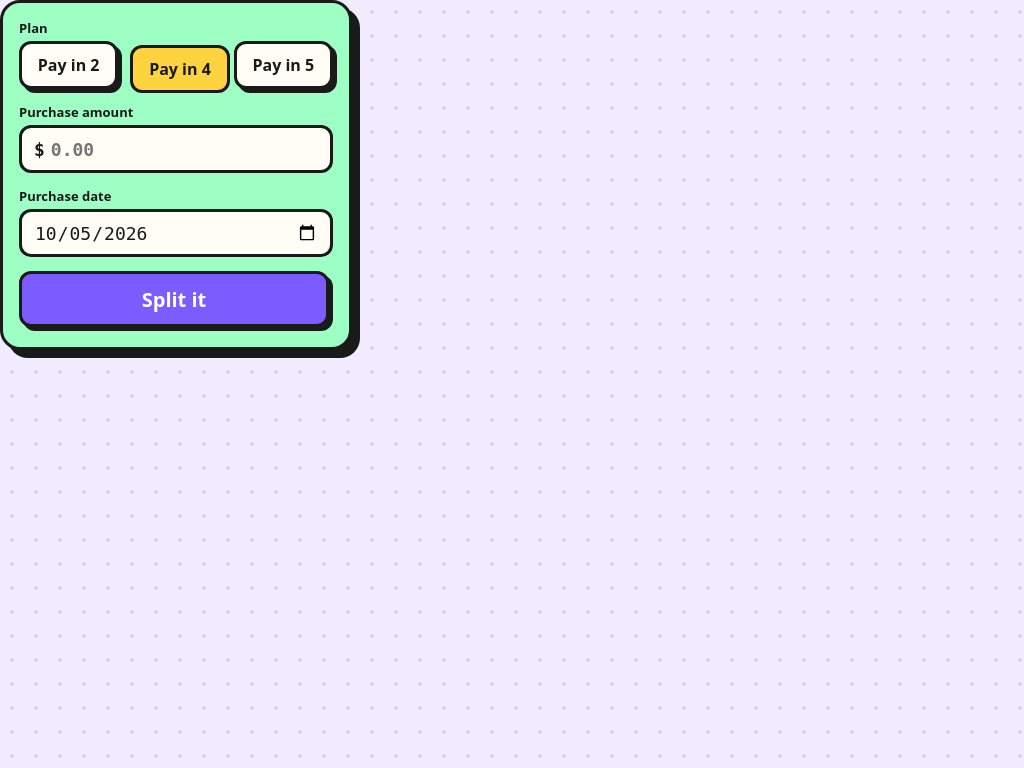
Test: PaymentPlanner › shows errors from the backend
This screenshot has width=1024, height=768.
In the field labelled "Purchase amount": coordinates (187, 149) x1=45 y1=138 x2=330 y2=160, type "0.03"
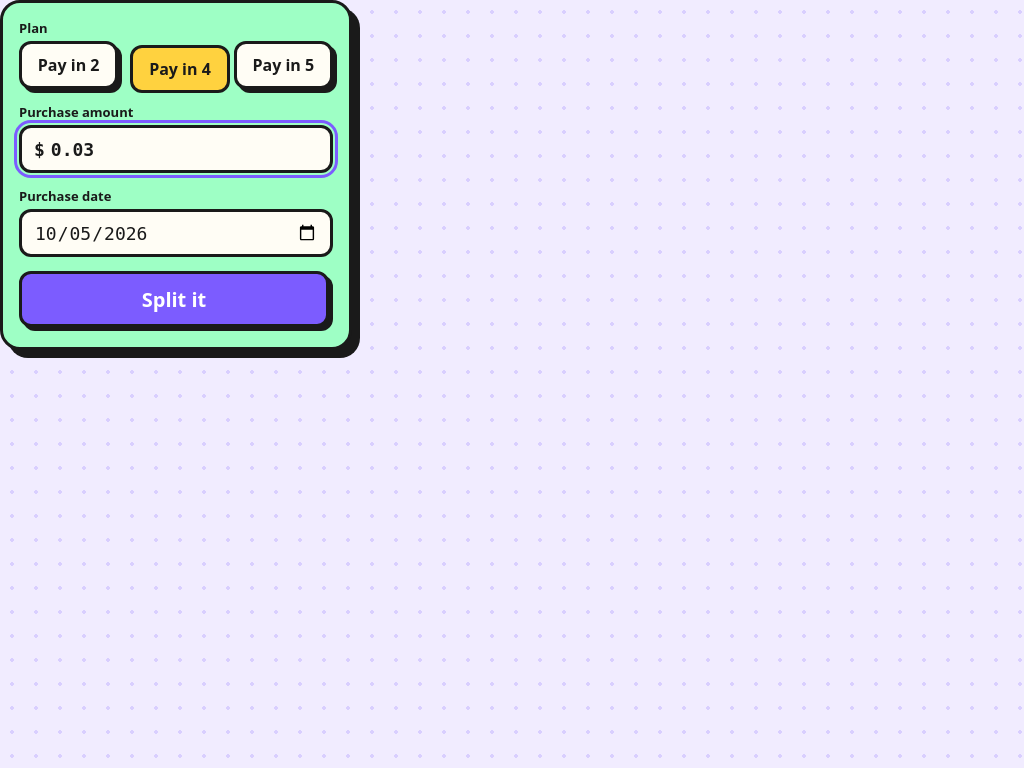
Click the button "Split it": coordinates (174, 299) x1=19 y1=271 x2=329 y2=327
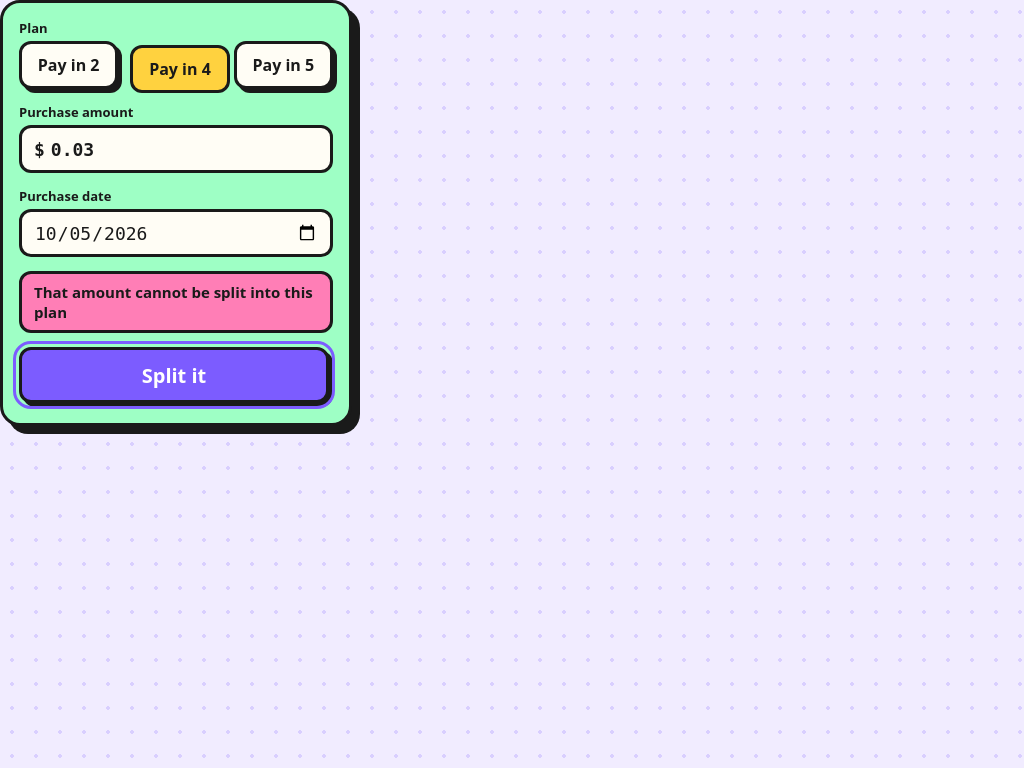
Expected: the message reads "That amount cannot be split into this plan", x1=34 y1=282 x2=313 y2=322
